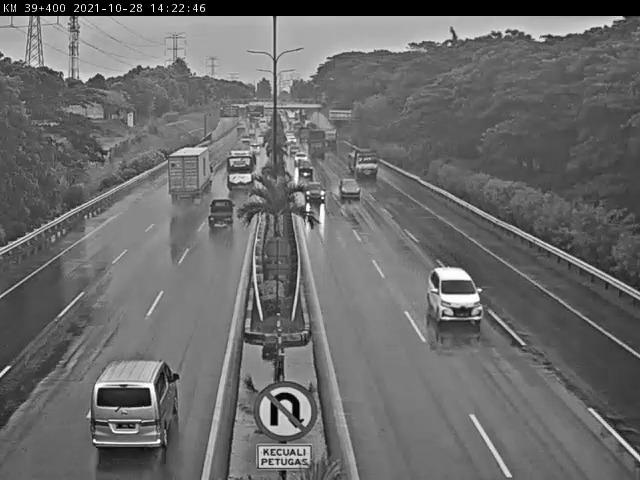big bus: (222, 149, 258, 191)
big truck: (161, 143, 209, 195), (348, 151, 383, 183), (307, 130, 328, 159)
car: (84, 344, 188, 460), (424, 260, 486, 335), (207, 196, 237, 230), (338, 177, 364, 205), (301, 182, 328, 206), (297, 163, 317, 180), (284, 132, 299, 147), (292, 147, 307, 162), (251, 141, 267, 155)
